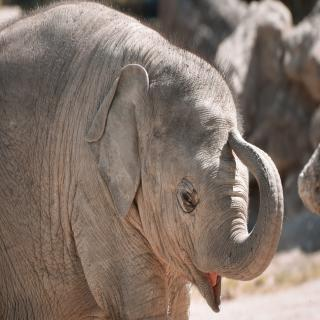Elephant: (1, 1, 288, 320)
